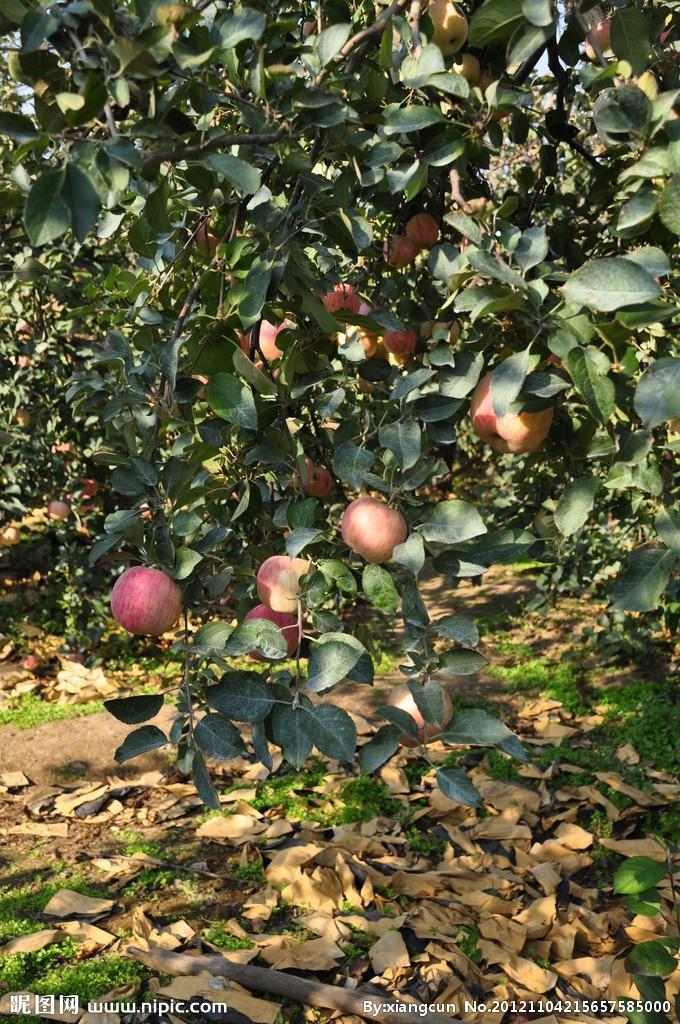apple: (466, 350, 557, 454), (110, 566, 182, 637), (339, 497, 409, 567), (255, 557, 302, 610), (380, 327, 416, 366), (403, 214, 440, 250), (385, 235, 416, 267)
